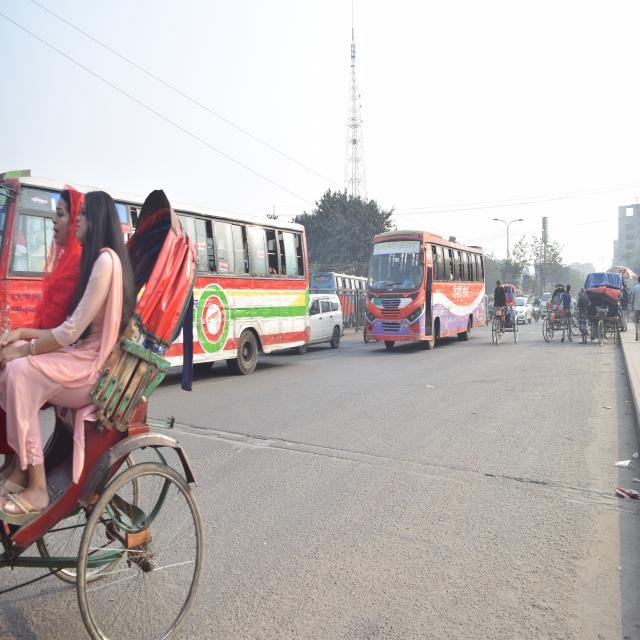bus: (0, 175, 312, 372), (364, 229, 490, 347)
car: (306, 284, 346, 349), (514, 294, 532, 325)
microbus: (540, 292, 553, 319)
motorbike: (531, 301, 540, 323), (486, 300, 494, 323)
